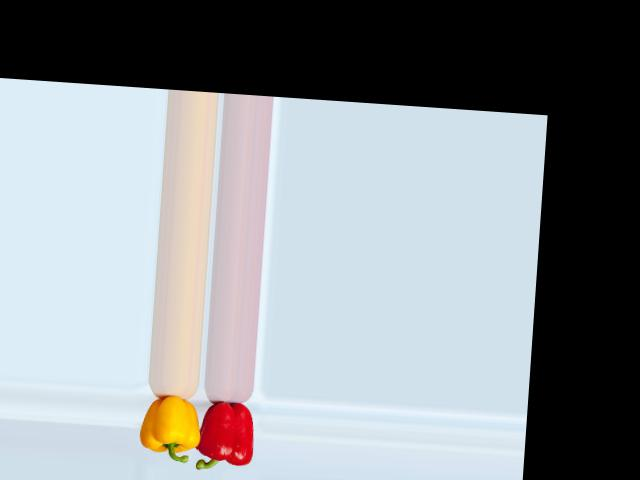bell_pepper: (193, 392, 262, 471)
